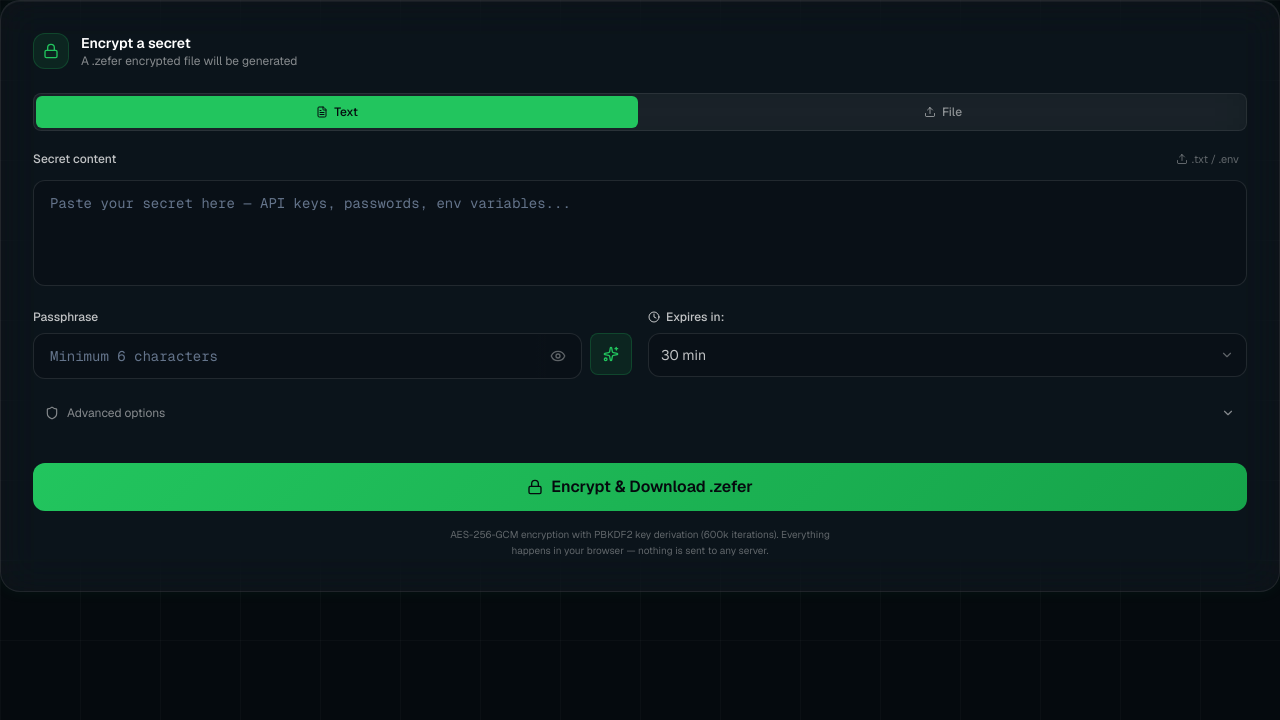
Test: EncryptForm › expands and collapses the advanced panel
The image size is (1280, 720).
Click the button "Advanced options": (116, 412) [33, 394, 1247, 430]
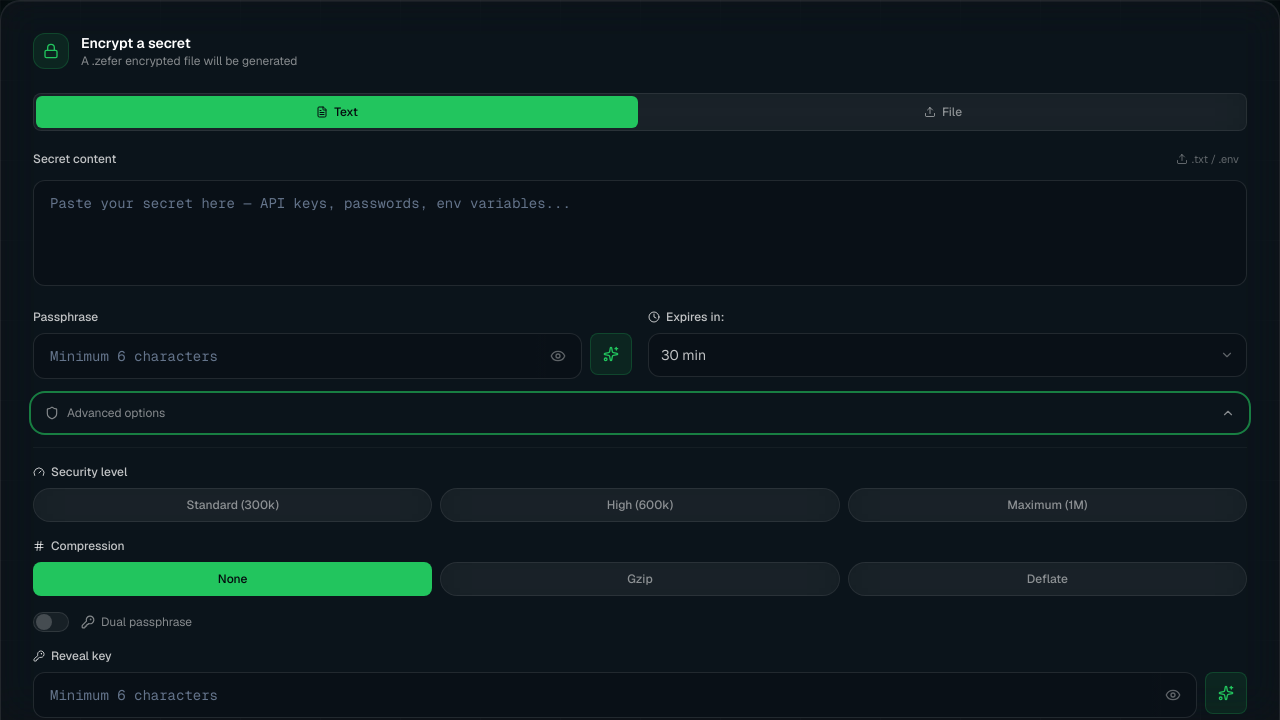
Result: the button "Advanced options" is expanded
Click the button "Advanced options": (116, 412) [33, 394, 1247, 430]
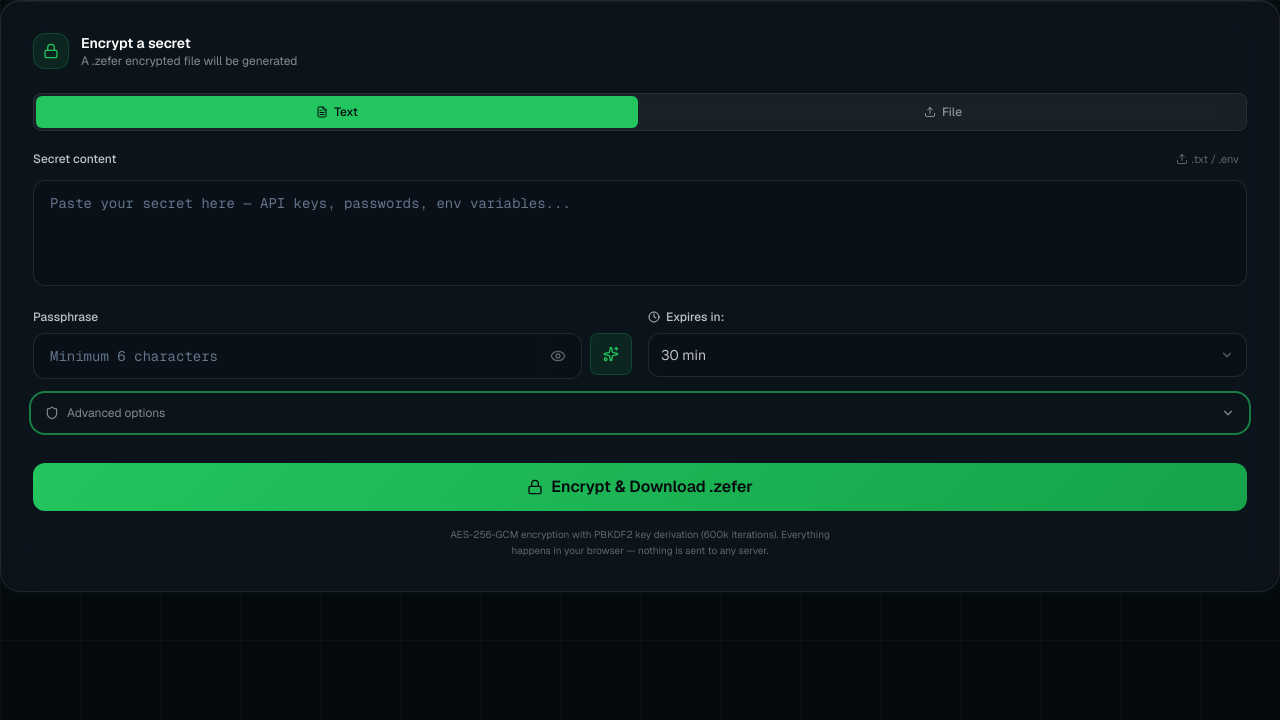
Result: the button "Advanced options" is collapsed at [33, 394, 1247, 430]
